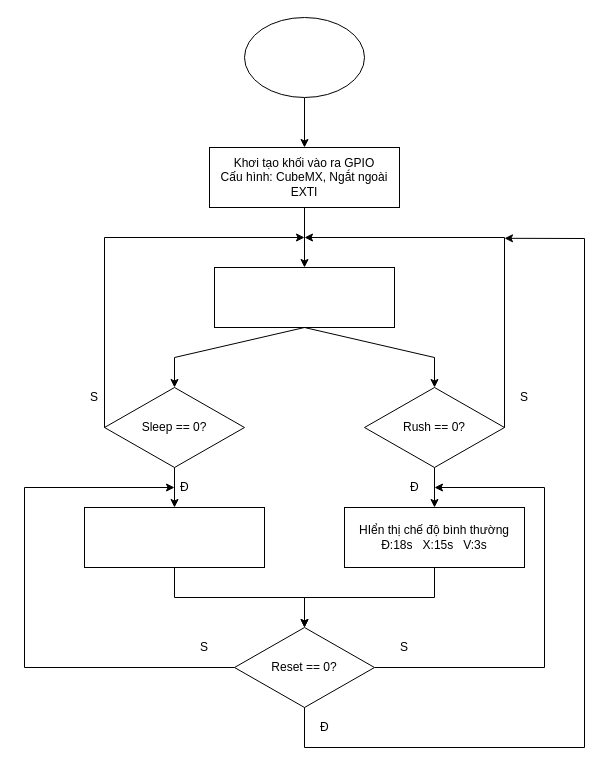
The diagram is 610 pixels wide and 773 high, and some of its shapes have lost their labels. The centre of each missing label's shape, as x and y in pixels:
Begin: point (304, 57)
HIển thị chế độ bình thường Đ:13s X:10s V:3s: point (304, 297)
HIển thị chế độ ngủ Đèn vàng sáng nhấp nháy tần số 1 HZ: point (174, 537)
